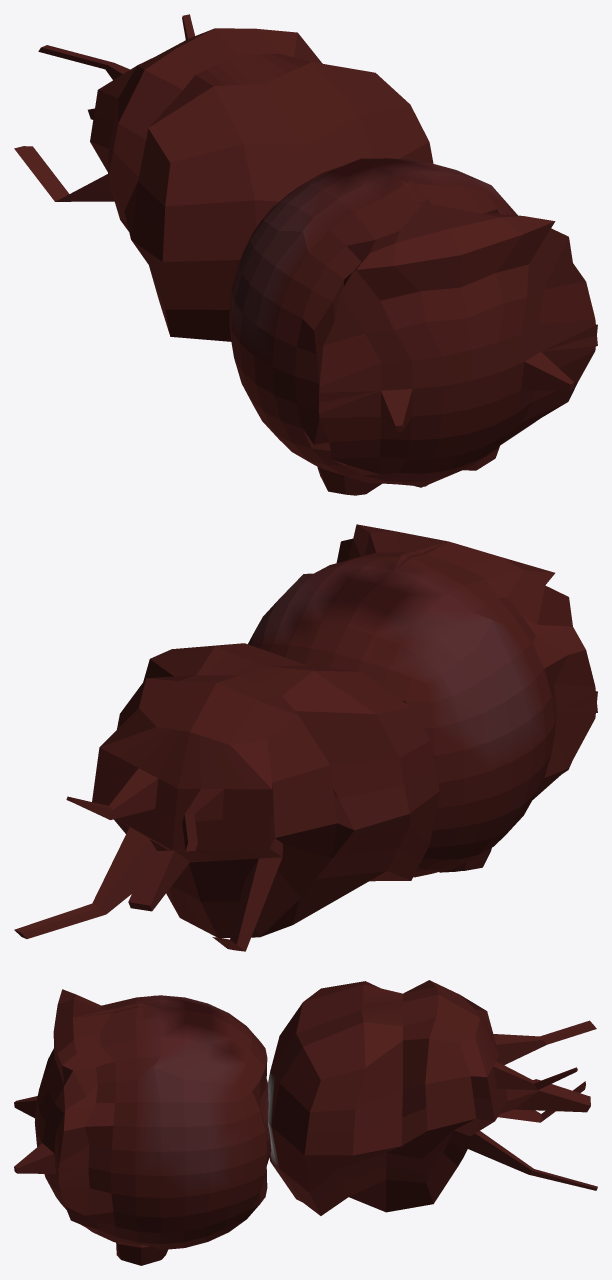
Rendered from jefe.fbx.
3 views of the same model, one above another, from view 1: azimuth 30°, elevation 25°; view 2: azimuth 150°, elevation 25°; view 3: azimuth 270°, elevation 25° (orthographic). The views are drawn at different scales.
Visible parts, largest first — view 1: Cube.001; view 2: Cube.001; view 3: Cube.001.
Boxes of the visible parts, box(x1,y1,x2,y2) form: Cube.001: box(14, 14, 597, 495); Cube.001: box(14, 524, 597, 951); Cube.001: box(14, 980, 597, 1265).
Size of the model in its own units: 168 by 182 by 389.
